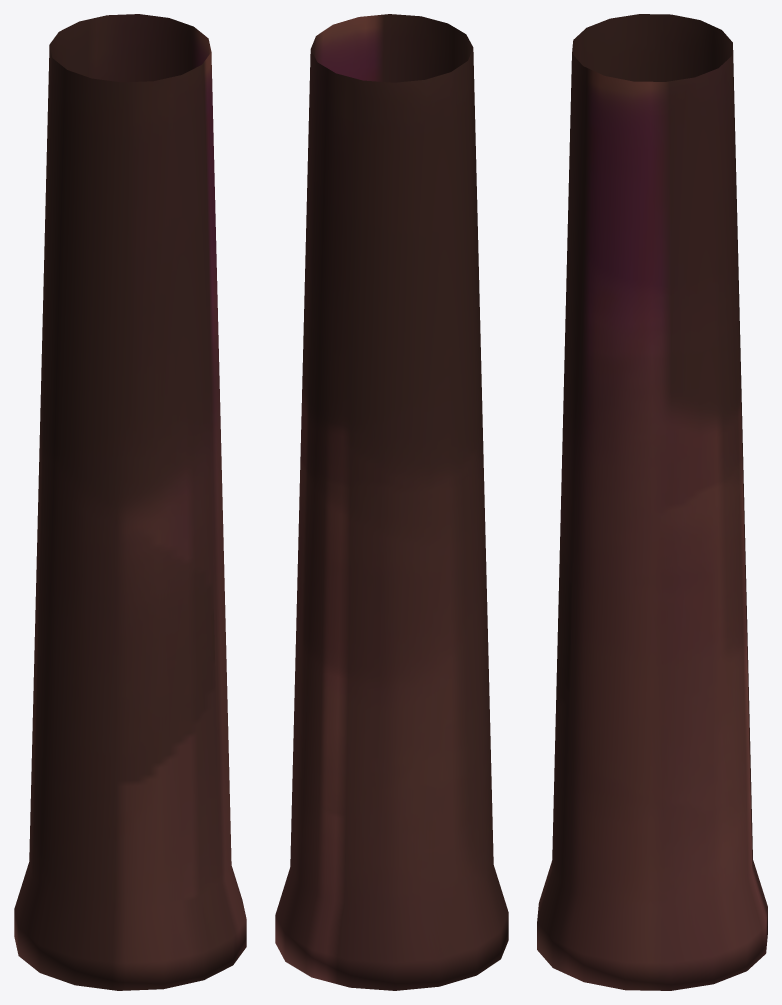
Rendered from Madeira.fbx.
3 renders of one model, left to right at view 1: azimuth 30°, elevation 25°; view 2: azimuth 150°, elevation 25°; view 3: azimuth 270°, elevation 25°, orthographic.
Parts seen in each view (by area): view 1: Madeira; view 2: Madeira; view 3: Madeira.
Part boxes in pixels (box(x1,y1,x2,y2)): Madeira: box(14, 14, 246, 990); Madeira: box(275, 14, 508, 990); Madeira: box(537, 14, 767, 990).
Bounding box in the file's own units: 28.27 × 28.27 × 121.
